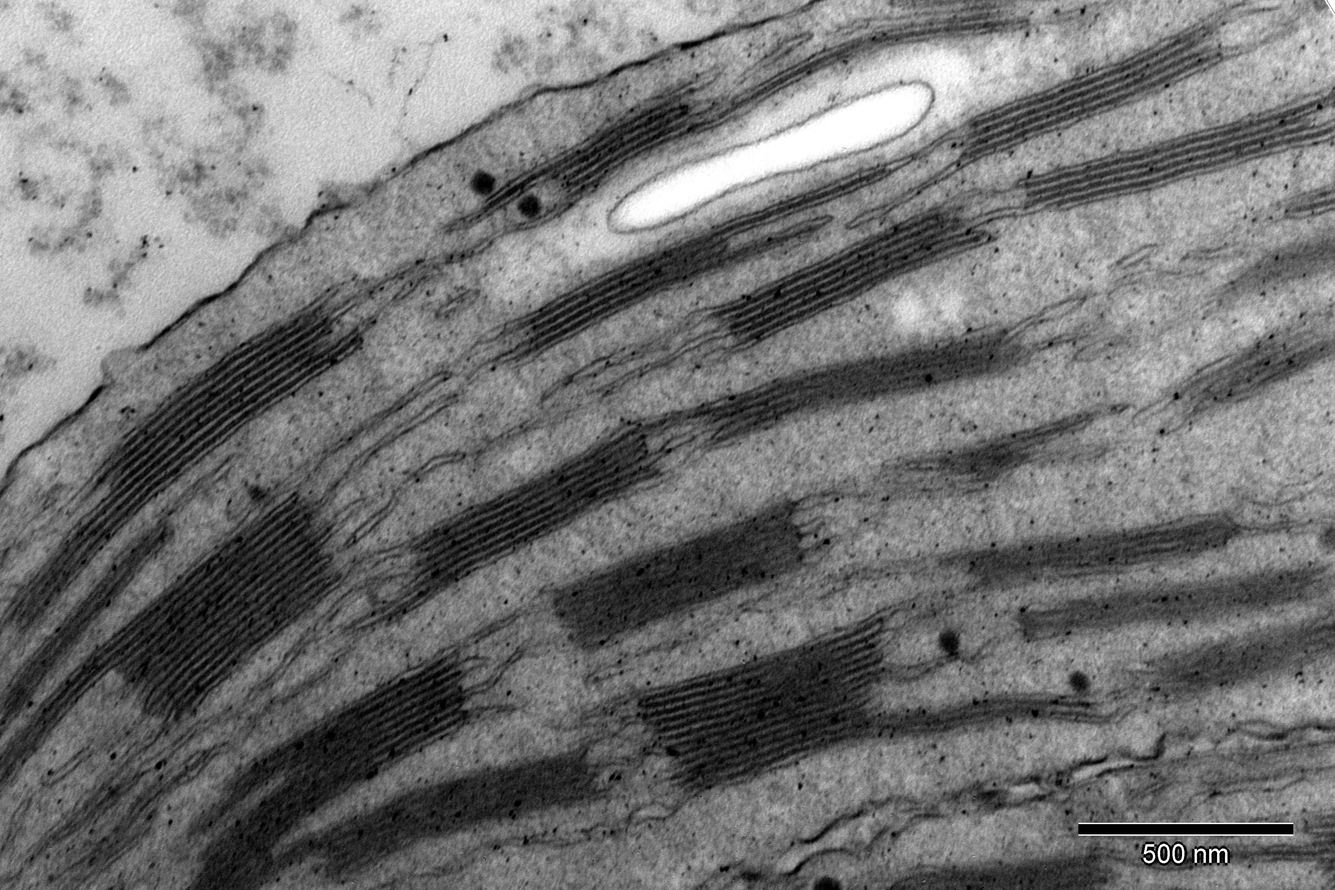granum: (1, 300, 365, 640), (0, 487, 349, 798), (627, 607, 1112, 804), (371, 415, 667, 632), (698, 181, 995, 357), (686, 315, 1038, 457), (944, 7, 1230, 171), (223, 637, 476, 821), (539, 486, 806, 658), (320, 738, 610, 889), (1, 507, 181, 742), (1012, 87, 1322, 221), (499, 217, 742, 365), (1013, 549, 1335, 649), (943, 504, 1246, 599), (537, 77, 745, 211), (1117, 605, 1335, 716), (1176, 308, 1335, 421), (181, 779, 310, 890), (40, 739, 153, 851), (57, 789, 160, 889), (1222, 226, 1335, 309), (937, 422, 1052, 503), (866, 1, 1021, 55), (895, 859, 1114, 890), (1299, 802, 1335, 877), (1278, 177, 1335, 222), (334, 599, 381, 651)
